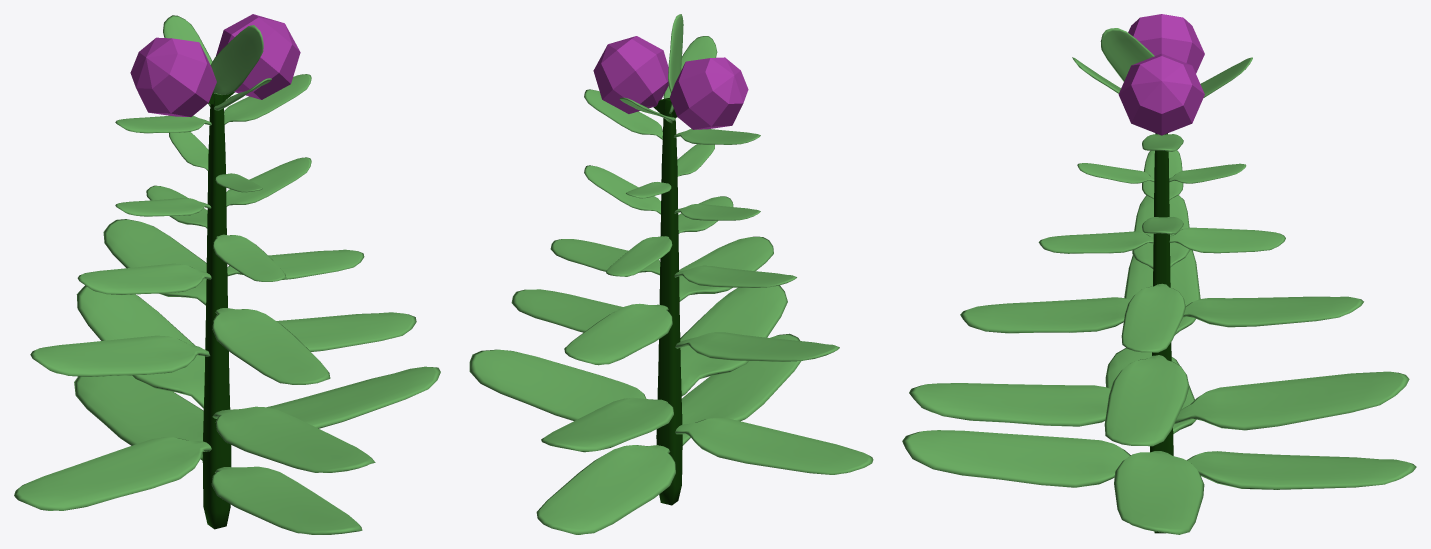
The model's file is milkweed_no_cat_old.fbx.
3 views of the same model, side by side, from view 1: azimuth 30°, elevation 25°; view 2: azimuth 150°, elevation 25°; view 3: azimuth 270°, elevation 25° (orthographic). The views are drawn at different scales.
Parts seen in each view (by area): view 1: stem1; view 2: stem1; view 3: stem1.
Boxes of the visible parts, x1,y1,x2,y2 form: stem1: (14,14,440,534); stem1: (469,14,873,534); stem1: (902,14,1416,534).
Bounding box in the file's own units: 0.7875 × 0.8989 × 0.8229.
